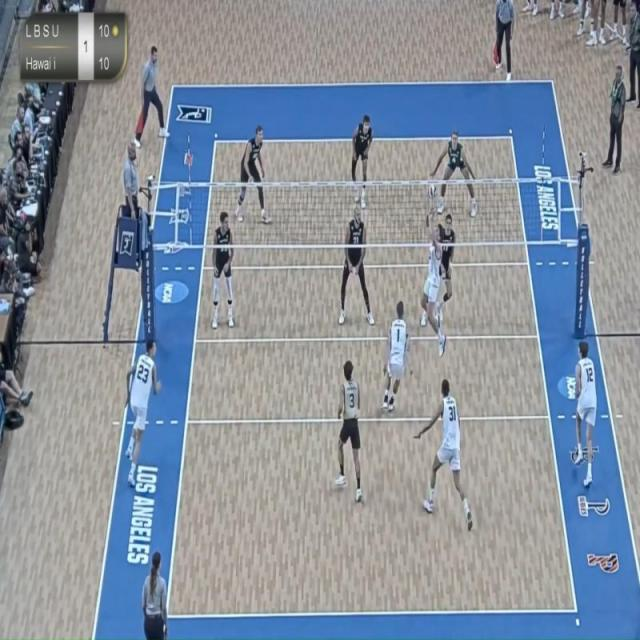volleyball: (426, 178, 439, 202)
